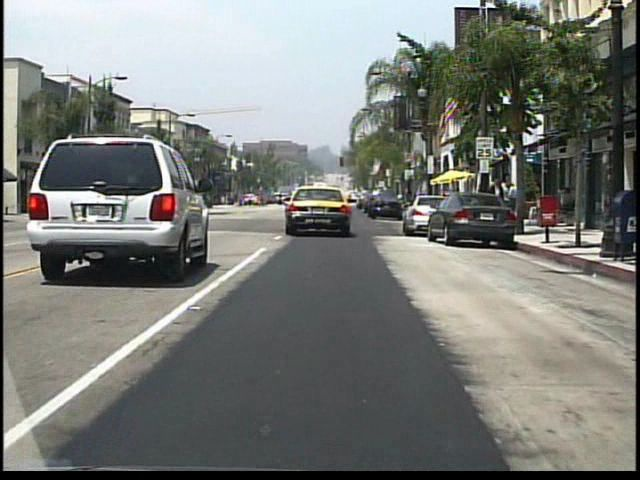person: (486, 177, 504, 215), (505, 181, 519, 224), (488, 179, 501, 216), (500, 183, 512, 216), (276, 190, 284, 205)
